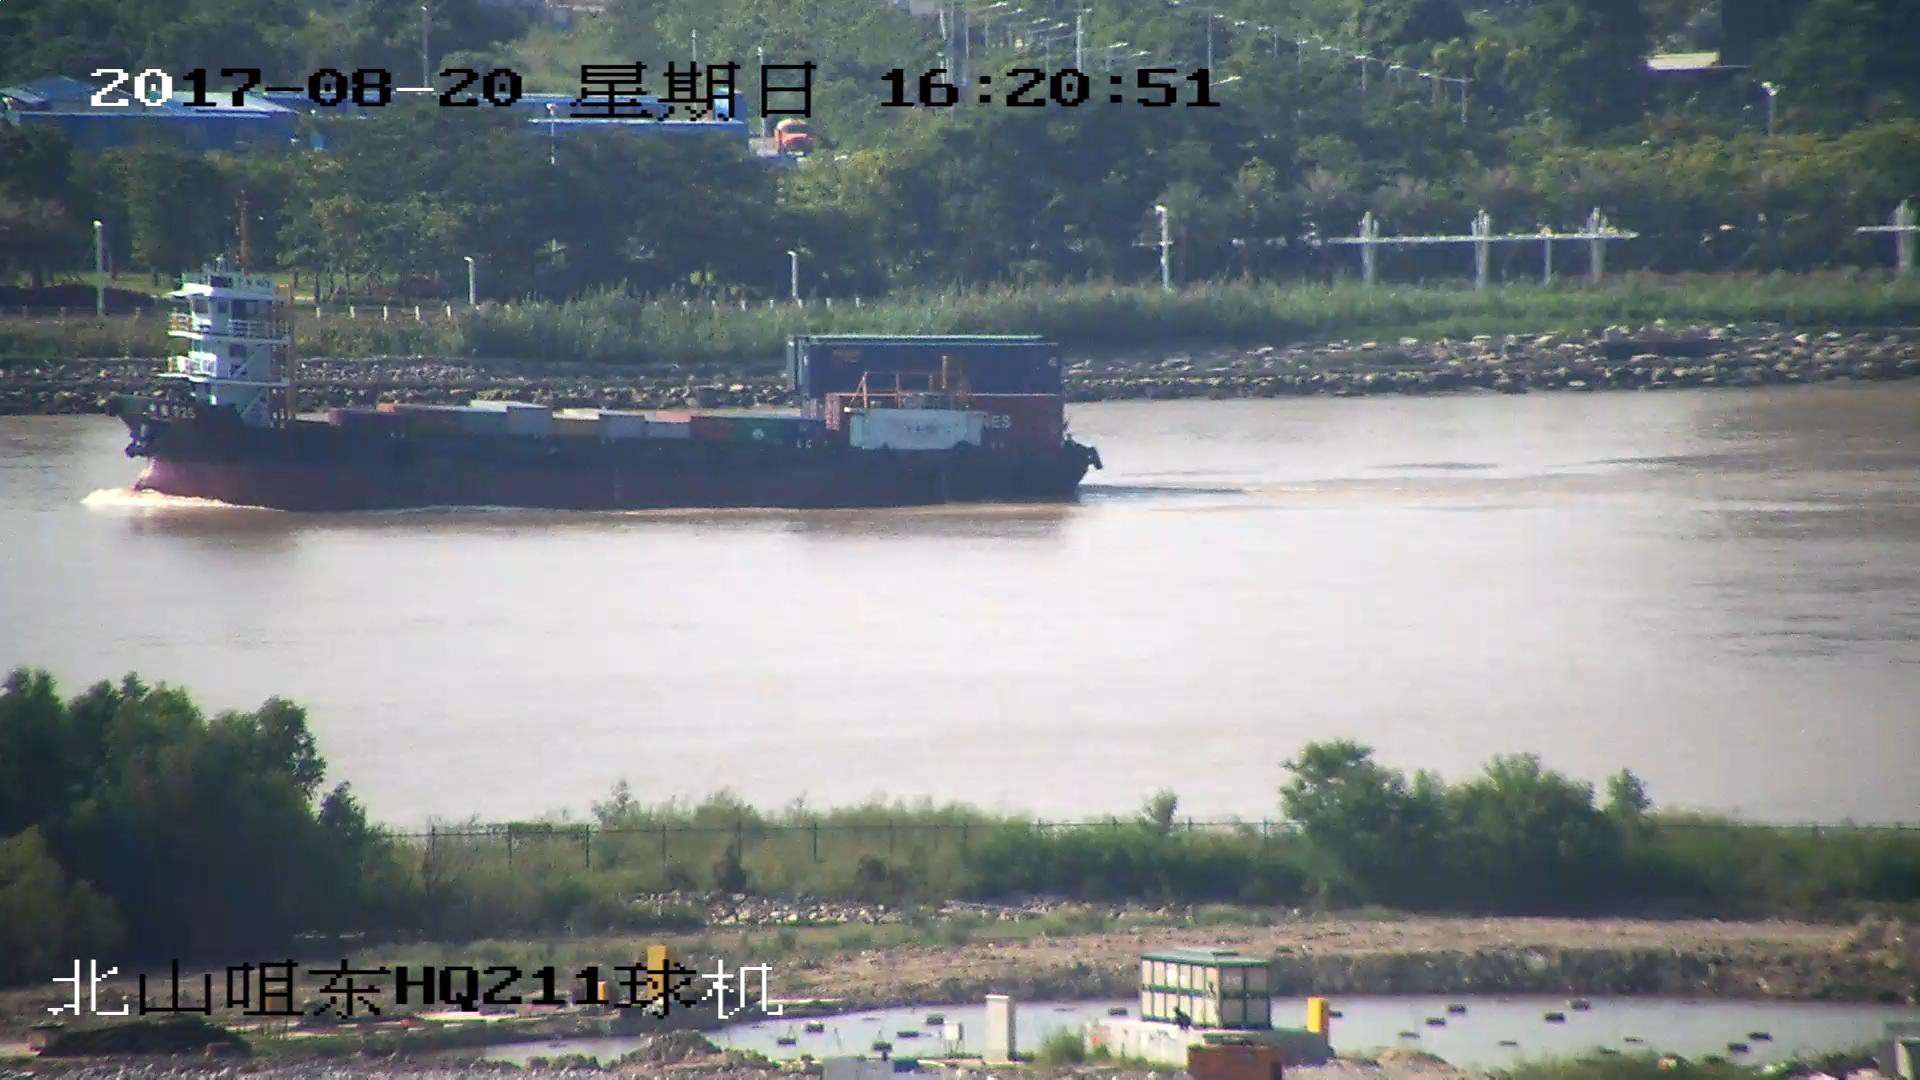container ship: (109, 229, 1097, 509)
